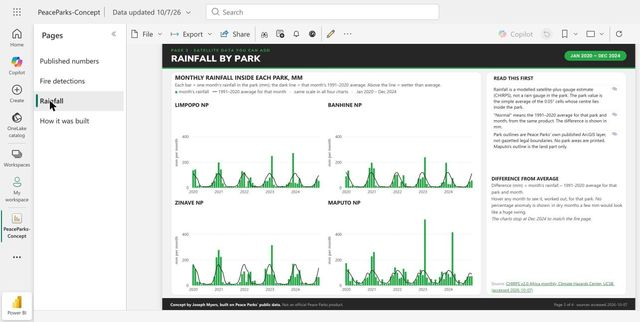

This screenshot's page, from the dashboard's own definition file:
{"tool":"powerbi","page":{"name":"Rainfall","canvas":[1280,720],"ordinal":2},"visuals":[{"type":"textbox","box":[32,80,824,70],"z":3001},{"type":"lineClusteredColumnComboChart","title":"LIMPOPO NP","fields":{"Category":["P2_Rainfall12.MonthDate"],"Y":["P2_Rainfall12.Rain mm"],"Y2":["P2_Rainfall12.Normal mm"]},"box":[32,152,410,260],"z":3002},{"type":"lineClusteredColumnComboChart","title":"BANHINE NP","fields":{"Category":["P2_Rainfall12.MonthDate"],"Y":["P2_Rainfall12.Rain mm"],"Y2":["P2_Rainfall12.Normal mm"]},"box":[446,152,410,260],"z":3003},{"type":"lineClusteredColumnComboChart","title":"ZINAVE NP","fields":{"Category":["P2_Rainfall12.MonthDate"],"Y":["P2_Rainfall12.Rain mm"],"Y2":["P2_Rainfall12.Normal mm"]},"box":[32,416,410,260],"z":3004},{"type":"lineClusteredColumnComboChart","title":"MAPUTO NP","fields":{"Category":["P2_Rainfall12.MonthDate"],"Y":["P2_Rainfall12.Rain mm"],"Y2":["P2_Rainfall12.Normal mm"]},"box":[446,416,410,260],"z":3005},{"type":"tableEx","fields":{"Values":["P3_Caveats16.PageText","P3_Caveats16.Source","P3_Caveats16.CaveatNo"]},"box":[884,80,364,270],"z":3006},{"type":"textbox","box":[884,354,364,280],"z":3007},{"type":"textbox","box":[884,638,364,39],"z":3008},{"type":"textbox","box":[0,688,860,32],"z":3900},{"type":"textbox","box":[860,688,420,32],"z":3901}]}

Visuals, with their boxes on the page's 1280x720 design canvas (x1, y1, x2, y2). These are canvas units, not pixel positions in the 640x322 screenshot, which may show the page scaled, cropped or inside an application window:
textbox: [left=32, top=80, right=856, bottom=150]
"LIMPOPO NP" lineClusteredColumnComboChart: [left=32, top=152, right=442, bottom=412]
"BANHINE NP" lineClusteredColumnComboChart: [left=446, top=152, right=856, bottom=412]
"ZINAVE NP" lineClusteredColumnComboChart: [left=32, top=416, right=442, bottom=676]
"MAPUTO NP" lineClusteredColumnComboChart: [left=446, top=416, right=856, bottom=676]
tableEx - P3_Caveats16.PageText x P3_Caveats16.Source: [left=884, top=80, right=1248, bottom=350]
textbox: [left=884, top=354, right=1248, bottom=634]
textbox: [left=884, top=638, right=1248, bottom=677]
textbox: [left=0, top=688, right=860, bottom=720]
textbox: [left=860, top=688, right=1280, bottom=720]
